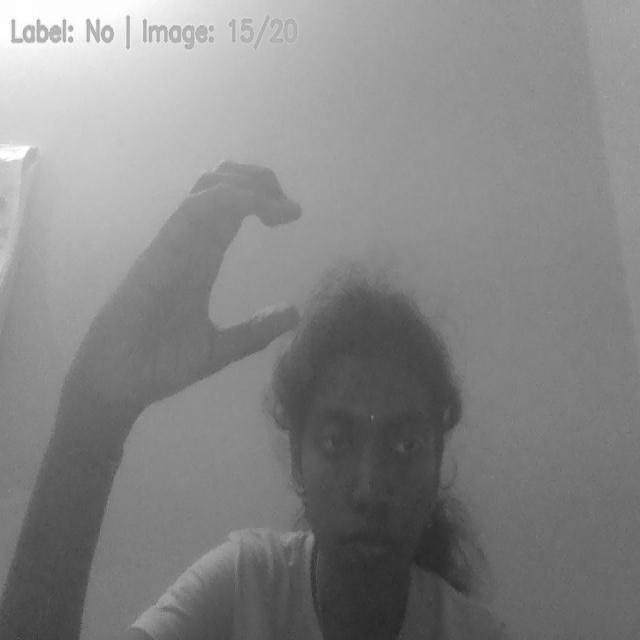No: (73, 157, 313, 430)
